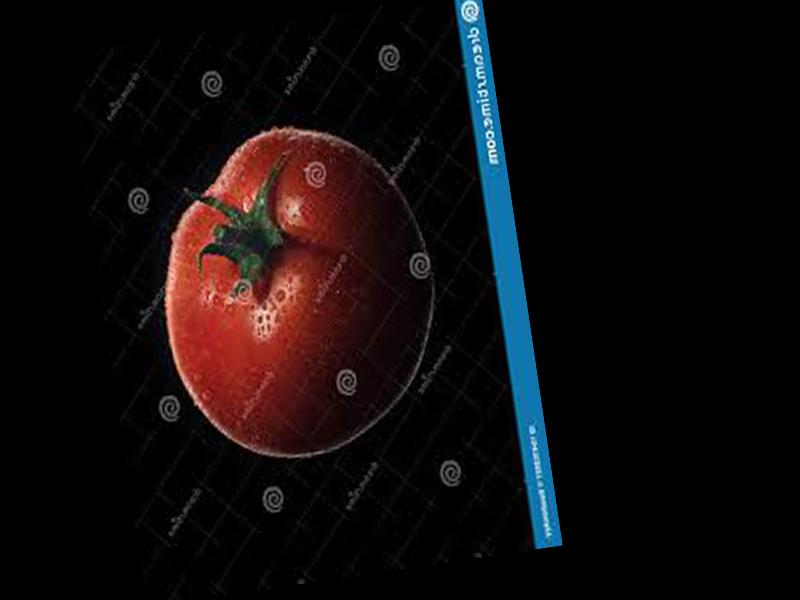Tomato: (140, 108, 453, 475)
